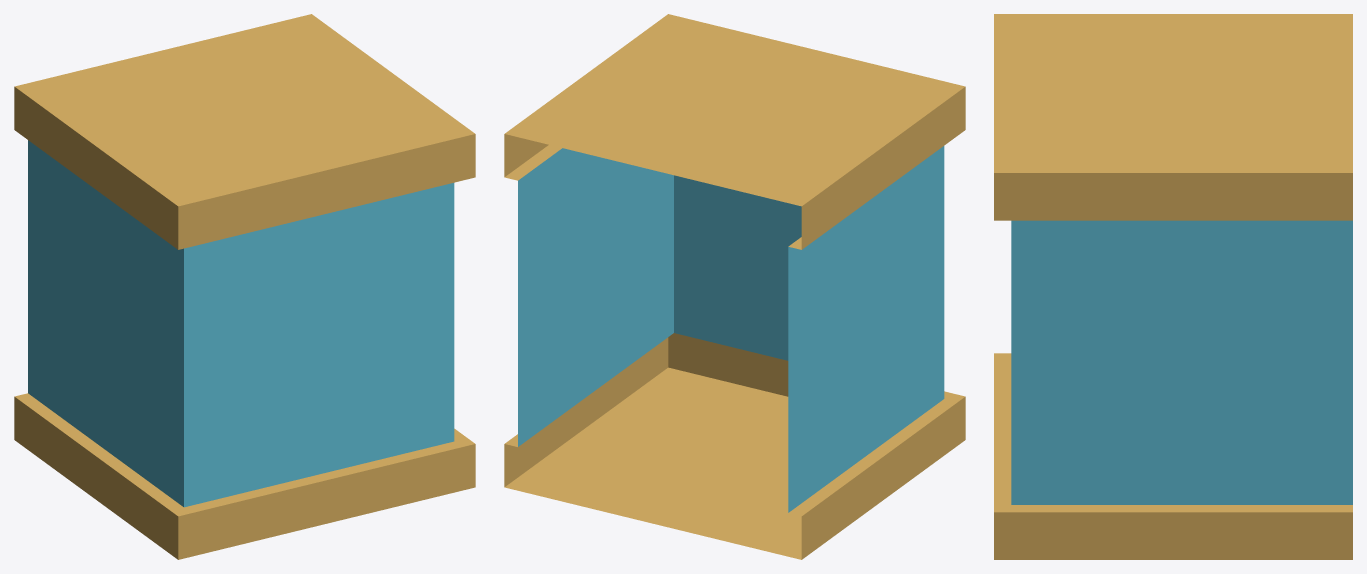
The model's file is SmallTH_Middle_Outer.fbx.
3 renders of one model, left to right at view 1: azimuth 30°, elevation 25°; view 2: azimuth 150°, elevation 25°; view 3: azimuth 270°, elevation 25°, orthographic. The views are drawn at different scales.
Parts seen in each view (by area): view 1: SmallTH_Middle_Outer; view 2: SmallTH_Middle_Outer; view 3: SmallTH_Middle_Outer.
Part boxes in pixels (x1,y1,x2,y2): SmallTH_Middle_Outer: (14,14,475,559); SmallTH_Middle_Outer: (504,14,965,559); SmallTH_Middle_Outer: (994,14,1352,559).
Bounding box in the file's own units: 2.2 × 2.5 × 2.1.
